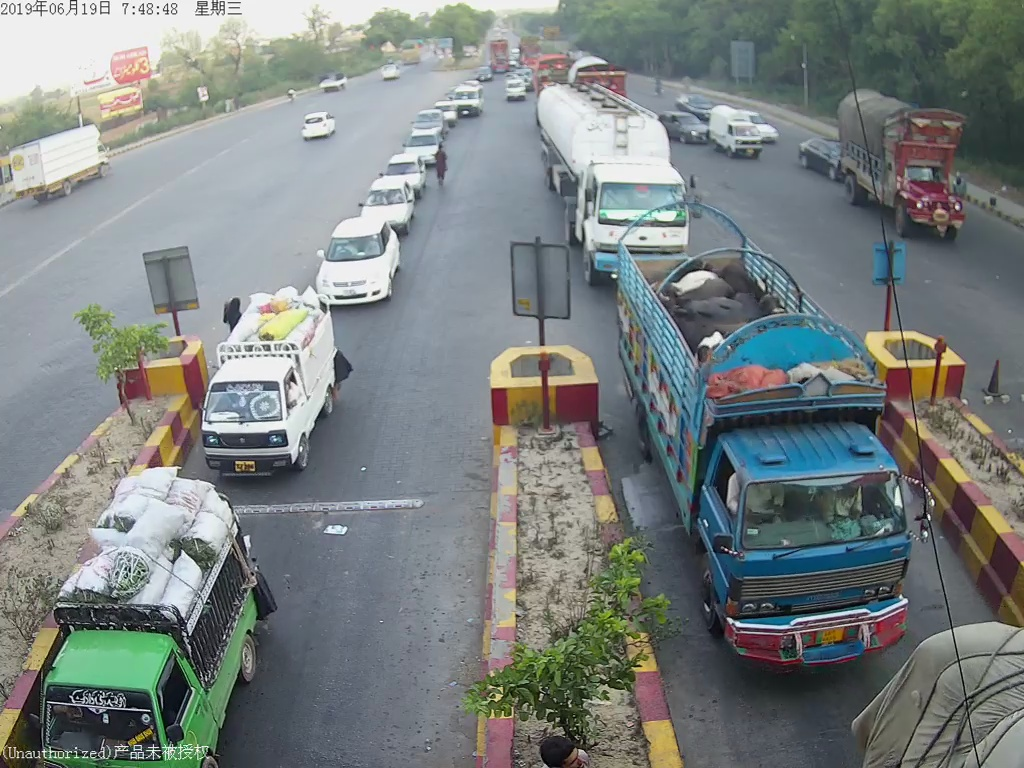Cat-1: (196, 290, 343, 479), (314, 216, 400, 309), (358, 182, 417, 233)
Cat-2: (626, 218, 919, 658)
Cat-4: (839, 90, 968, 241)
Cat-5: (532, 76, 691, 277)
